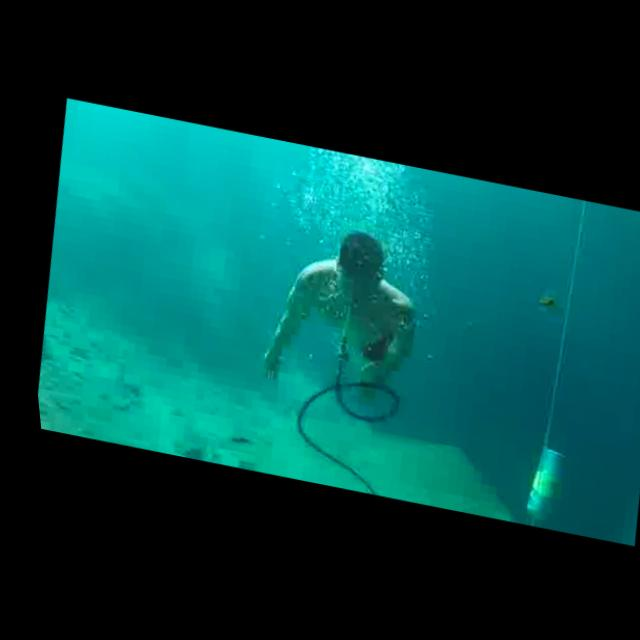human: (236, 210, 435, 418)
